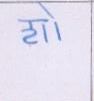o_matra: (46, 6, 64, 39)
